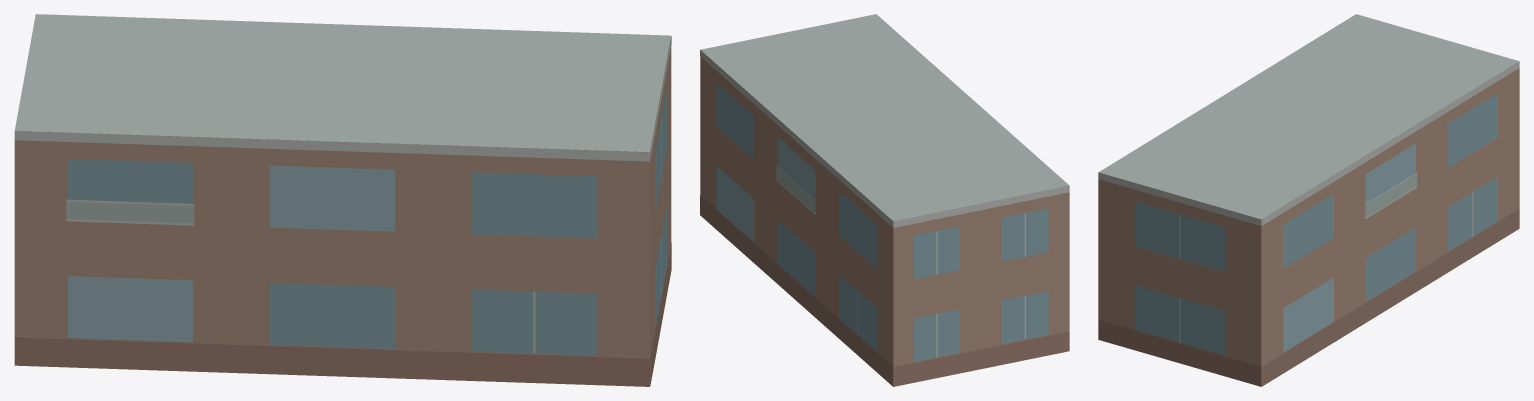
The model's file is survey-upis-32706670.glb.
3 views of the same model, side by side, from view 1: azimuth 30°, elevation 25°; view 2: azimuth 150°, elevation 25°; view 3: azimuth 270°, elevation 25° (orthographic). The views are drawn at different scales.
Visible parts, largest first — view 1: survey-upis-32706670.tmp; view 2: survey-upis-32706670.tmp; view 3: survey-upis-32706670.tmp.
Boxes of the visible parts, left/top/right/bottom form: survey-upis-32706670.tmp: left=14, top=14, right=671, bottom=386; survey-upis-32706670.tmp: left=700, top=14, right=1069, bottom=386; survey-upis-32706670.tmp: left=1098, top=14, right=1519, bottom=386.
Bounding box in the file's own units: 16.07 × 6.1 × 13.92.
